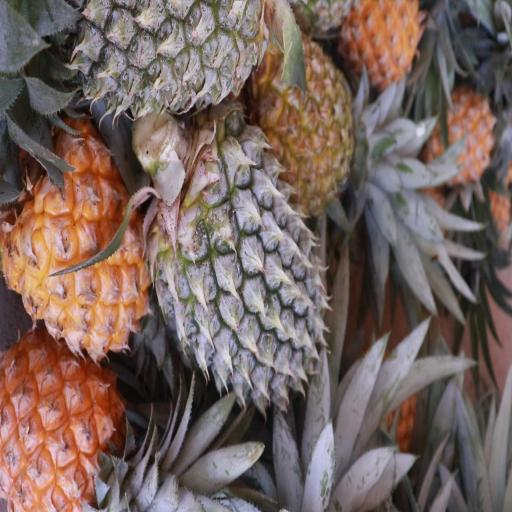------------------------------: (259, 37, 352, 204)
Pineapple - v8 v1: (6, 135, 149, 351), (0, 347, 130, 511), (344, 0, 422, 90), (423, 87, 494, 183)
